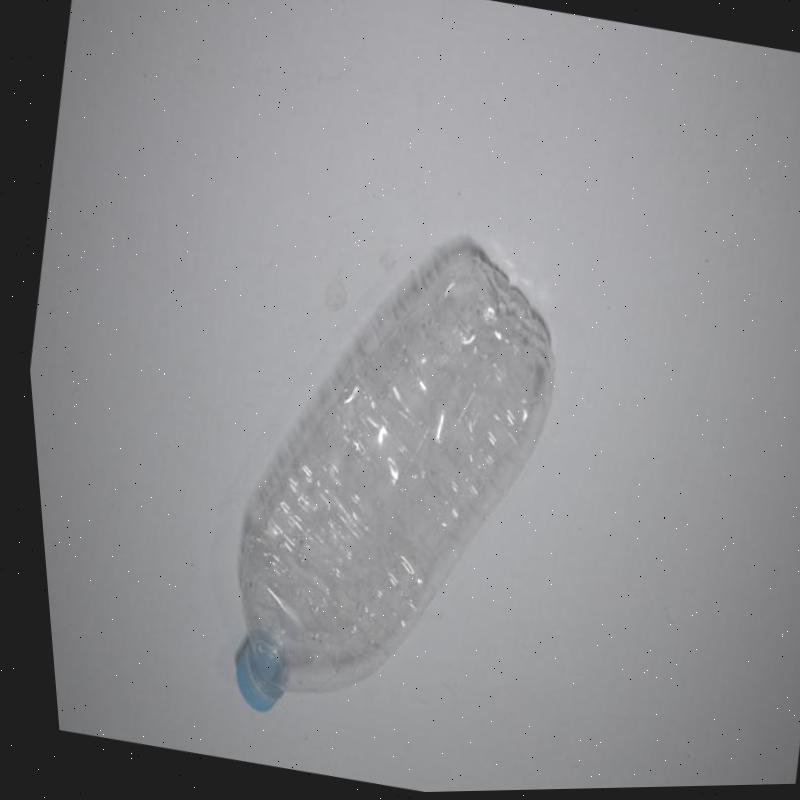botella: (178, 204, 595, 759)
